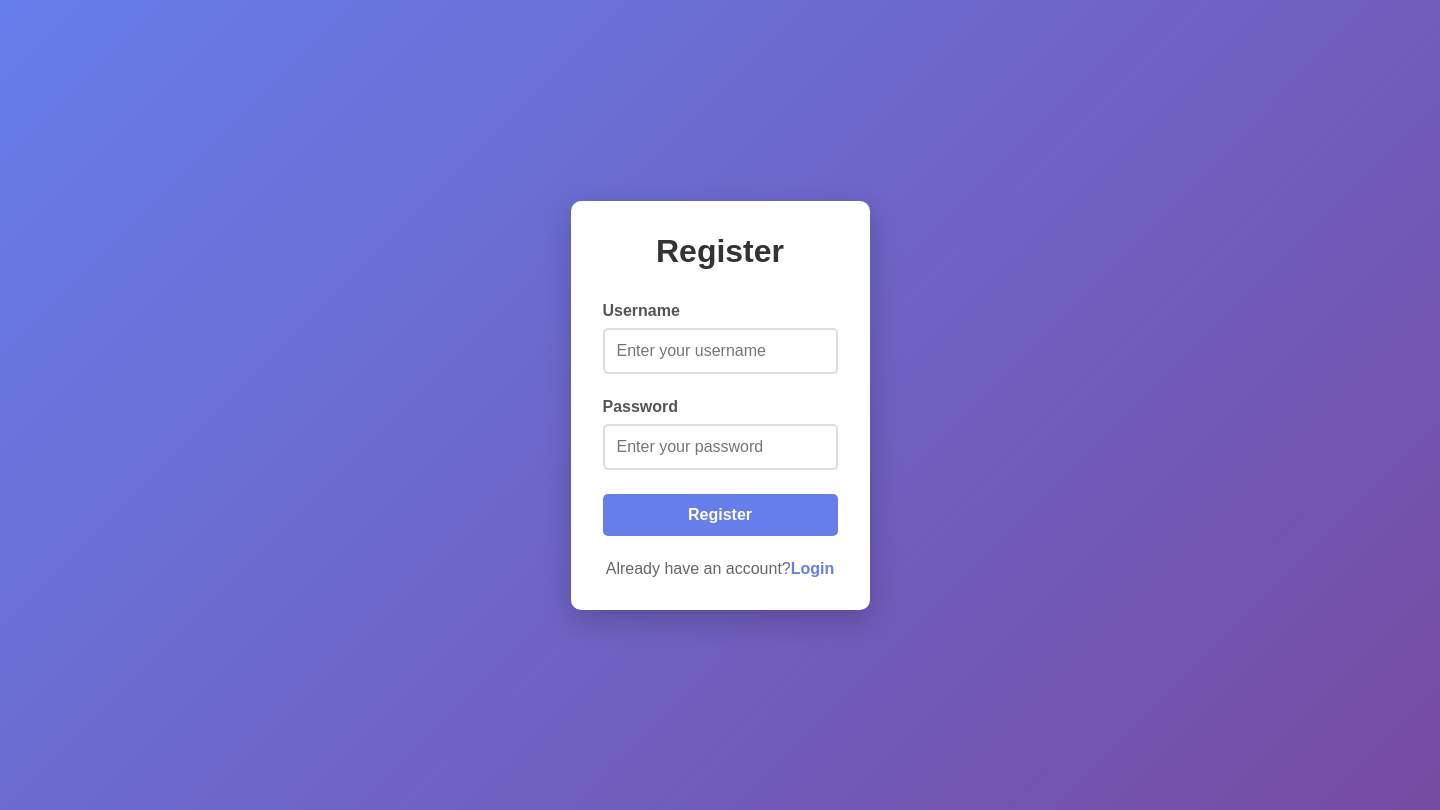
Scenario: Register Component › preenche formulário e submete com sucesso
# Preencher formulário
Type "newuser" into the field labelled "Username" at (720, 350), box [602,328,838,374]
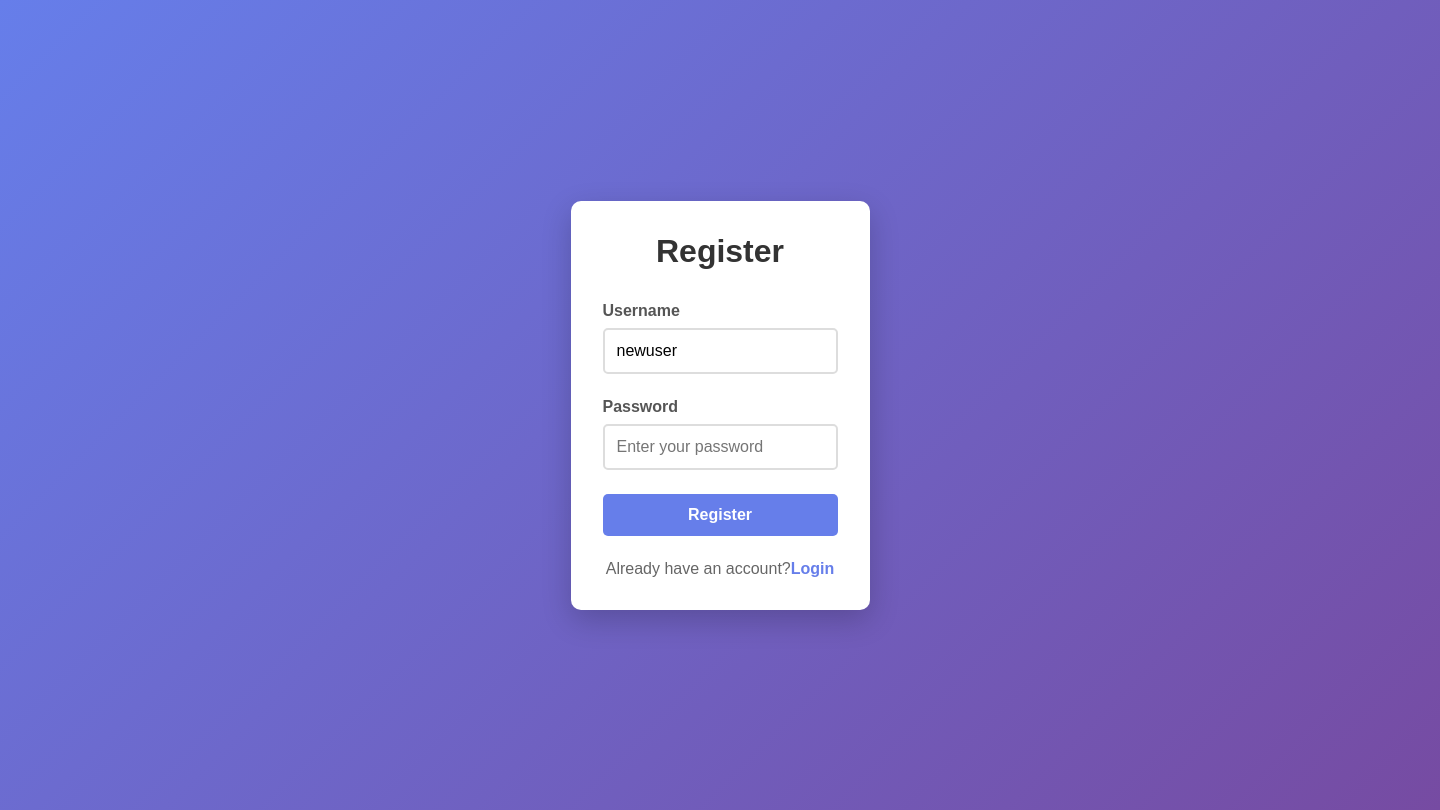
Type "password123" into the password field labelled "Password" at (720, 446), box [602,424,838,470]
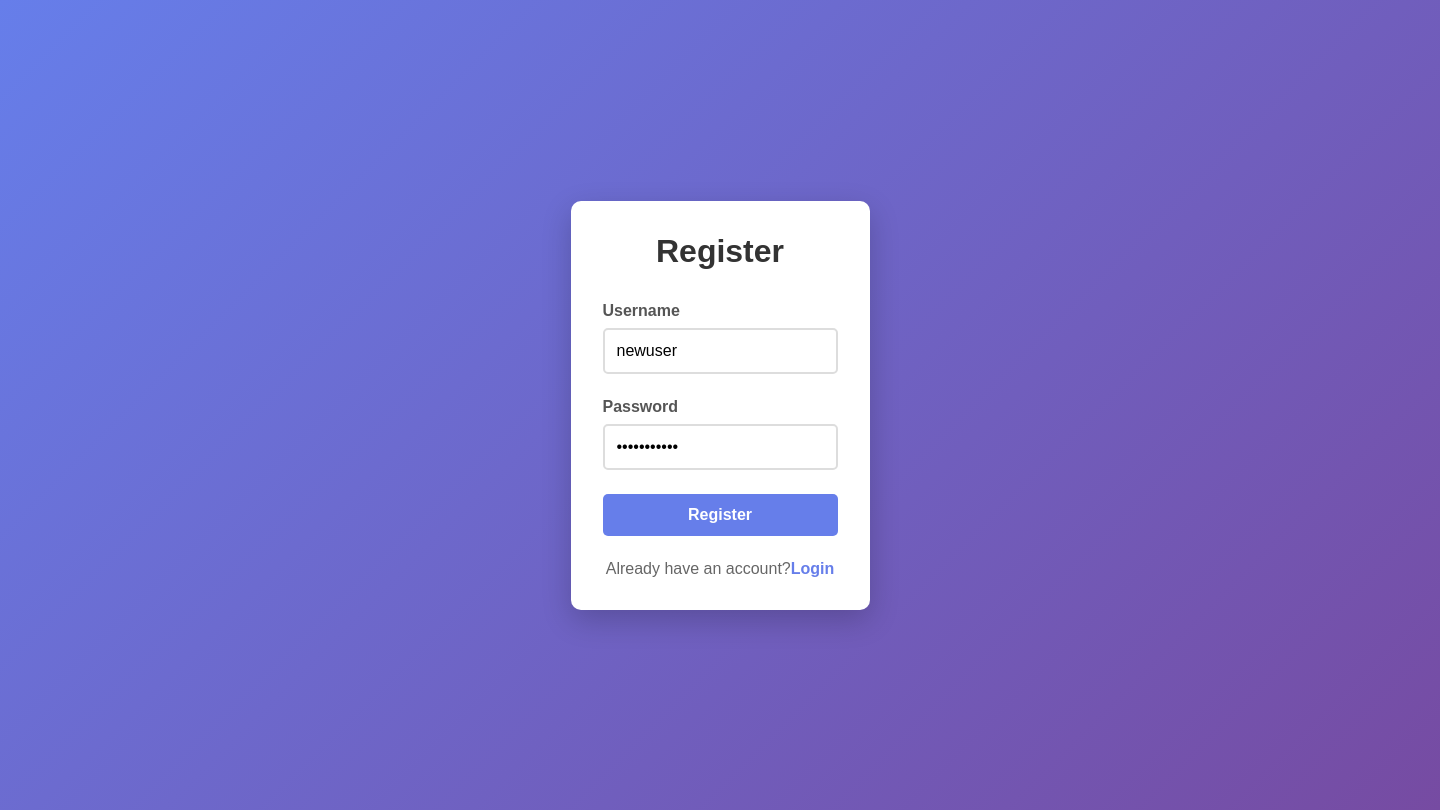
Click the button "Register" at (720, 514), box [602,494,838,536]
Wait 1000 ms
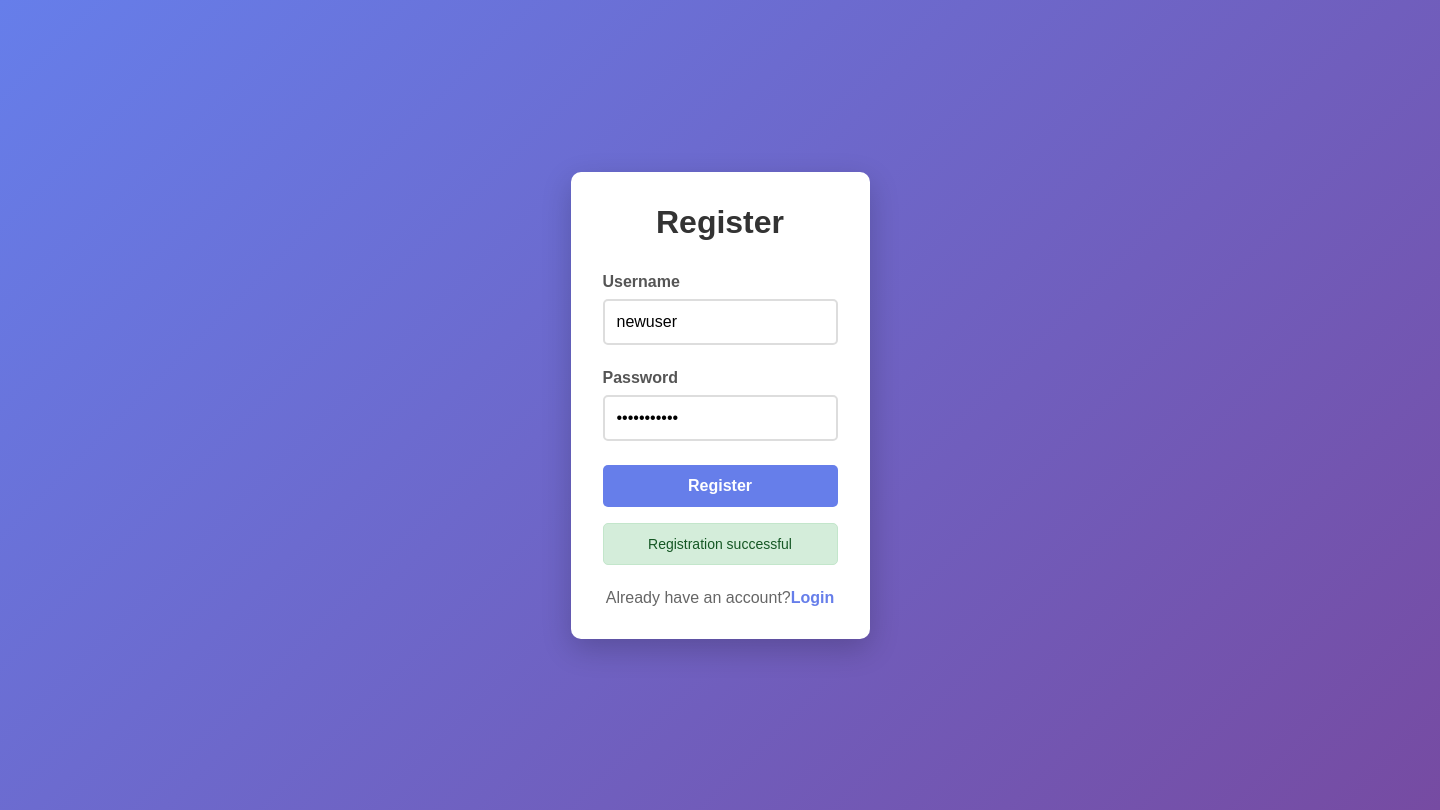
Expected: the text "Registration successful" is shown, [602,522,838,564]
